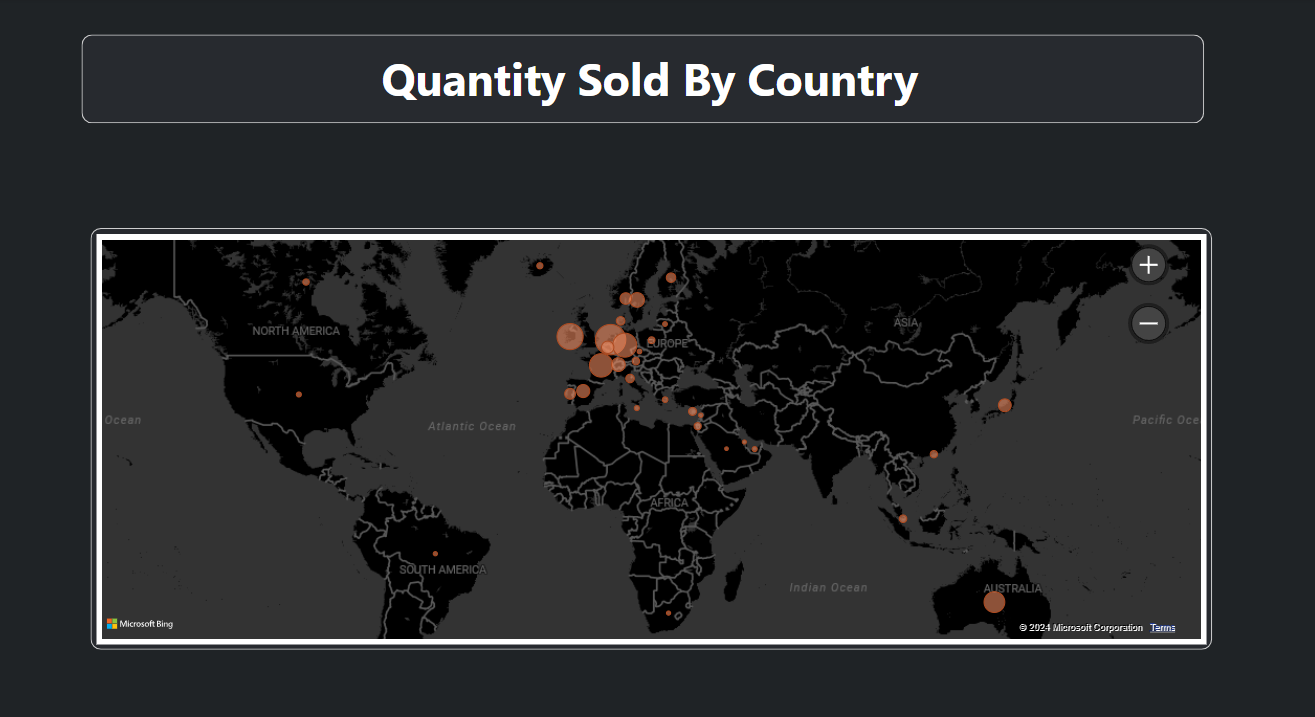

This screenshot's page, from the dashboard's own definition file:
{"tool":"powerbi","page":{"name":"Question 4","canvas":[1280,720],"ordinal":3},"visuals":[{"type":"group","id":"g1","title":"Group 1","box":[87.8,35.3,1079.6,587],"z":0},{"type":"shape","box":[96.4,219.5,1071,402.8],"z":0,"group":"g1"},{"type":"shape","box":[87.8,35.3,1072.1,84.8],"z":1000,"group":"g1"},{"type":"textbox","box":[108.9,42.6,1042.1,68.4],"z":1000},{"type":"map","fields":{"Category":["Online Retail.Country"],"Size":["Sum(Online Retail.Quantity)"]},"box":[101.5,225.6,1059.9,391.7],"z":2000}]}

Visuals, with their boxes on the page's 1280x720 design canvas (x1, y1, x2, y2). These are canvas units, not pixel positions in the 1315x717 screenshot, which may show the page scaled, cropped or inside an application window:
"Group 1" group: [x1=88, y1=35, x2=1167, y2=622]
shape: [x1=96, y1=220, x2=1167, y2=622]
shape: [x1=88, y1=35, x2=1160, y2=120]
textbox: [x1=109, y1=43, x2=1151, y2=111]
map - Online Retail.Country x Sum(Online Retail.Quantity): [x1=102, y1=226, x2=1161, y2=617]
